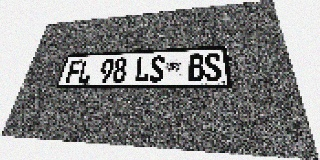8: (111, 57, 128, 83)
9: (98, 58, 115, 83)
B: (188, 54, 205, 82)
F: (65, 60, 83, 83)
L: (134, 56, 150, 82), (77, 59, 94, 83)
S: (204, 53, 222, 81), (149, 56, 165, 82)
